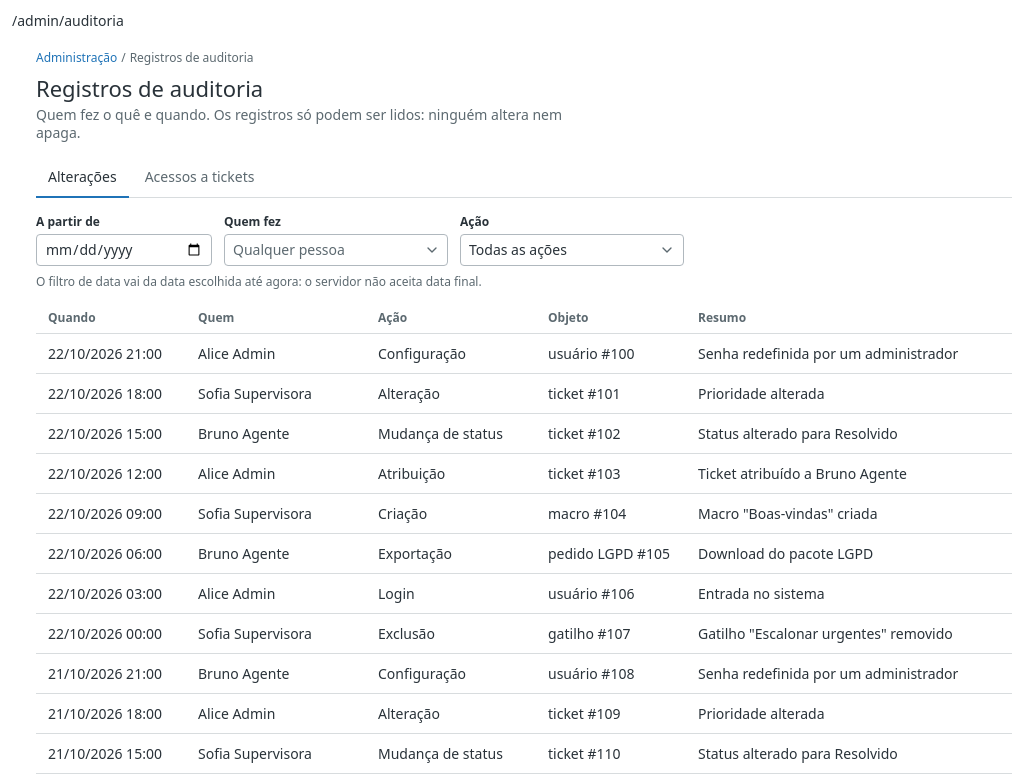
Scenario: Registros de auditoria › aba de acessos a tickets muda a rota e filtra somente os negados
Click the tab "Acessos a tickets": click(200, 178) [133,158,266,198]
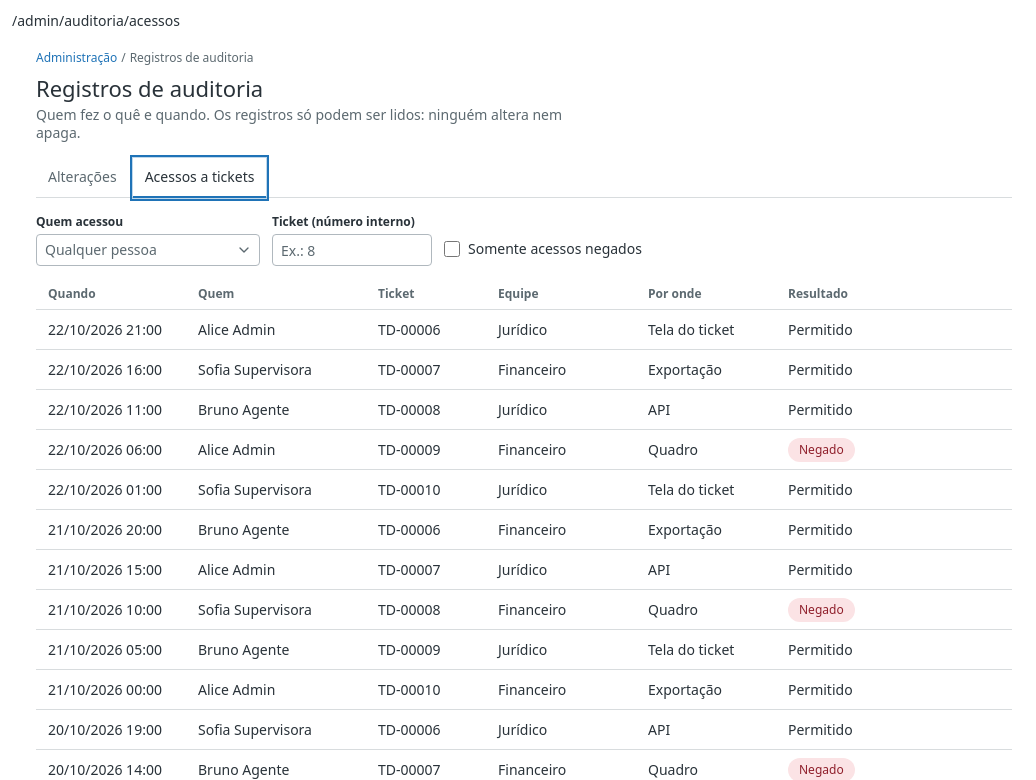
Result: the text with test id "loc" reads "/admin/auditoria/acessos" at [12,11,180,30]
Click the checkbox labelled "Somente acessos negados": click(452, 249) [444,241,460,257]
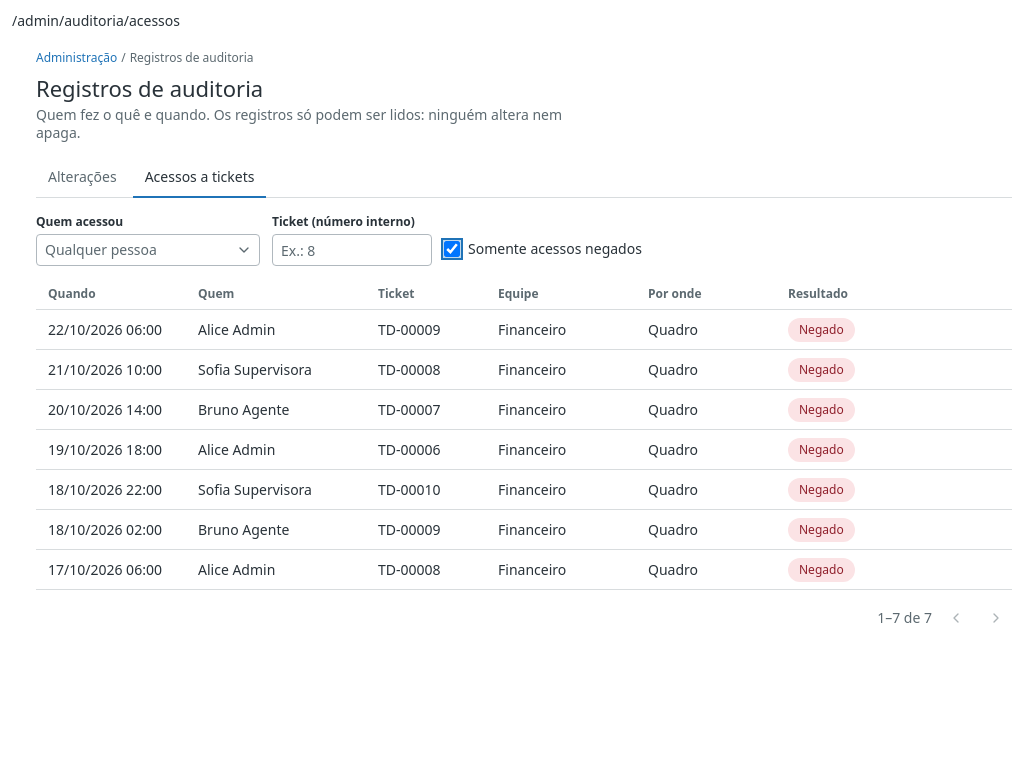
Result: the text "Negado" in the row of "22/10/2026 06:00" is shown at [799,320,844,338]
Result: the text "1–7 de 7" is shown at [877,609,932,627]
